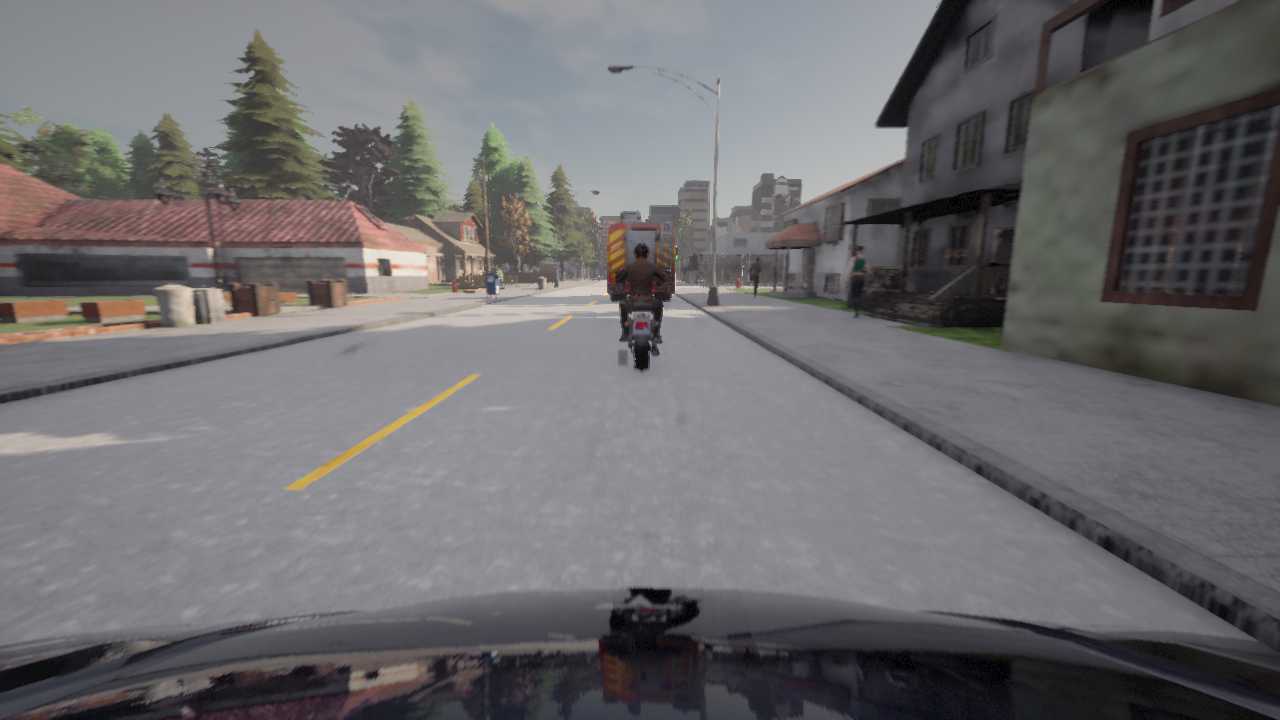cyclist: (0, 588, 1279, 719), (608, 211, 673, 300), (616, 270, 666, 370)
pedestrian: (845, 245, 869, 318), (750, 257, 762, 297)
